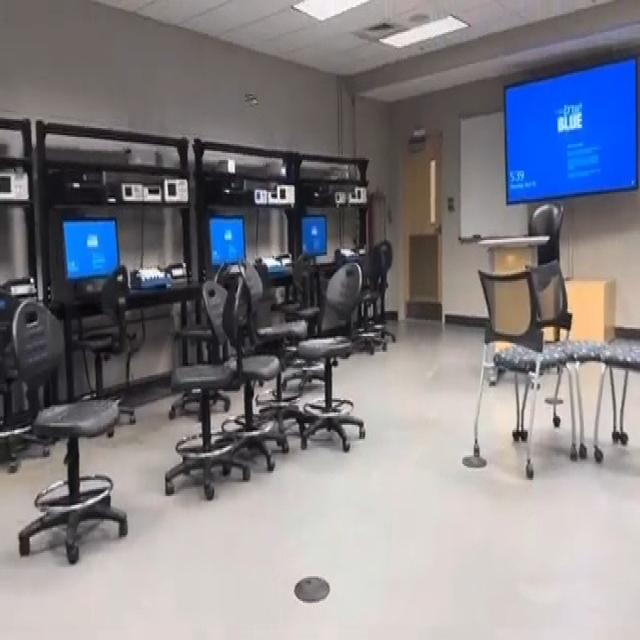drone: (234, 82, 269, 117)
